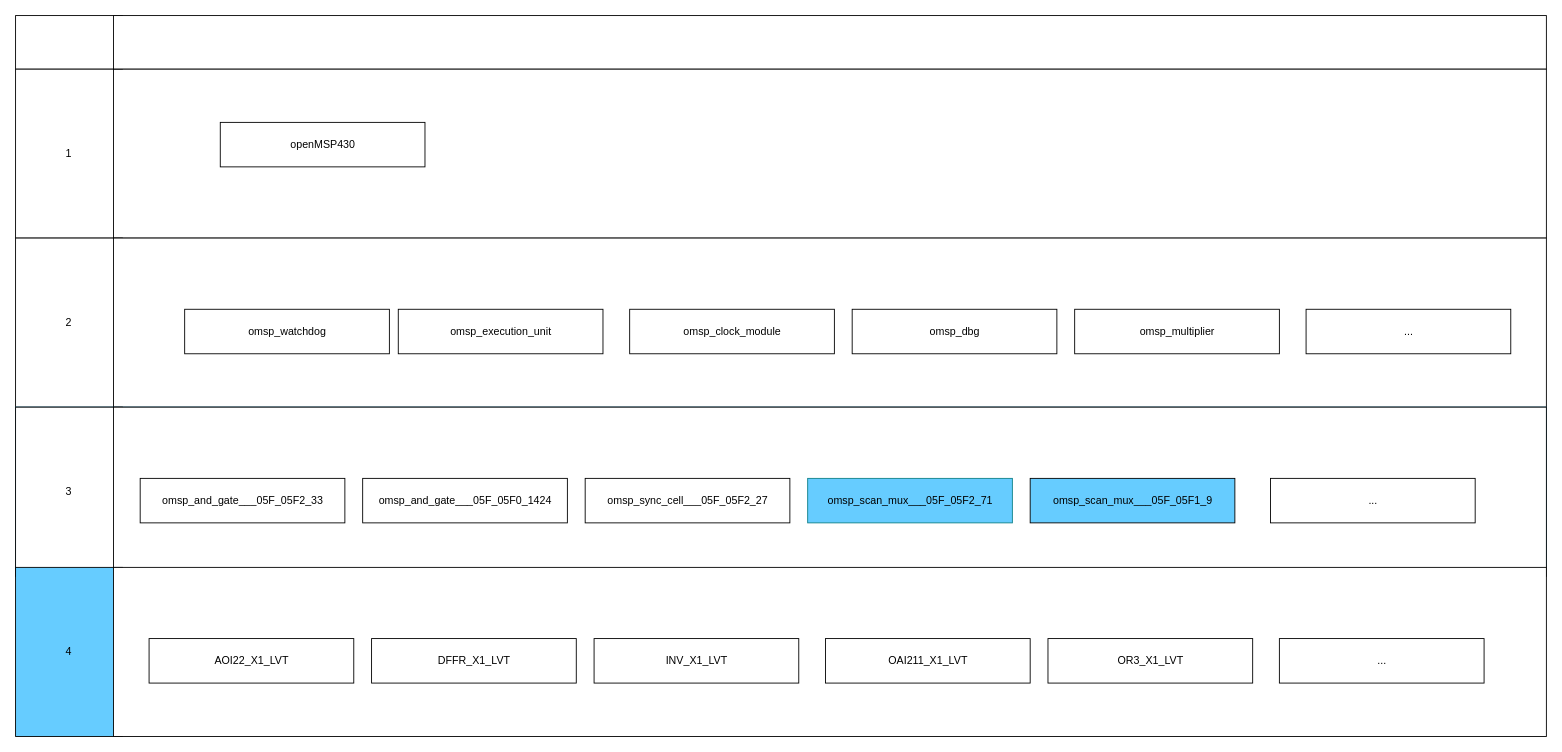
This 1562x752 diagram has some shape labels left out. The shapes that lost their labels are listed below. From the top down, each one's centre as x and y in pixels, then its label:
point 68,42: 层级
point 829,42: 模块名
